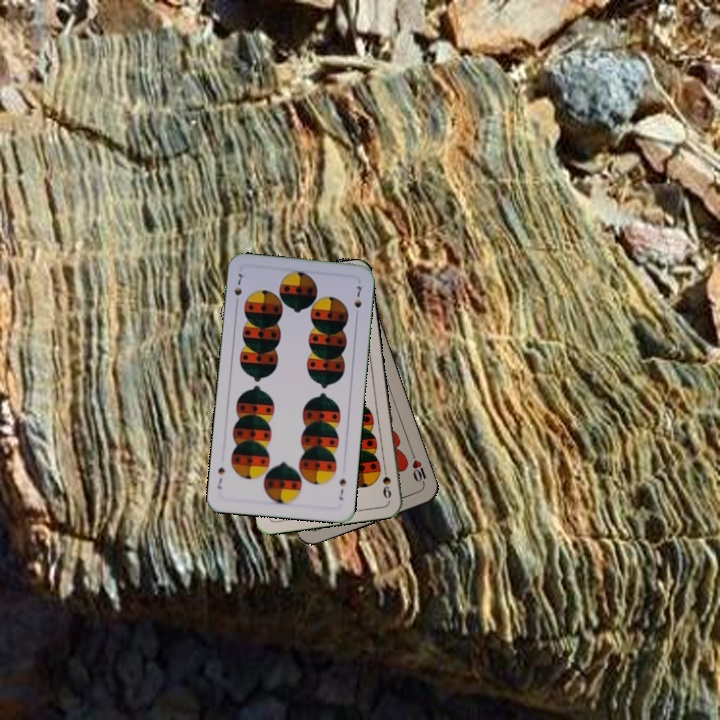H10: (408, 449, 429, 488)
S7: (230, 269, 247, 308), (335, 474, 349, 503)
S9: (379, 461, 394, 501)
